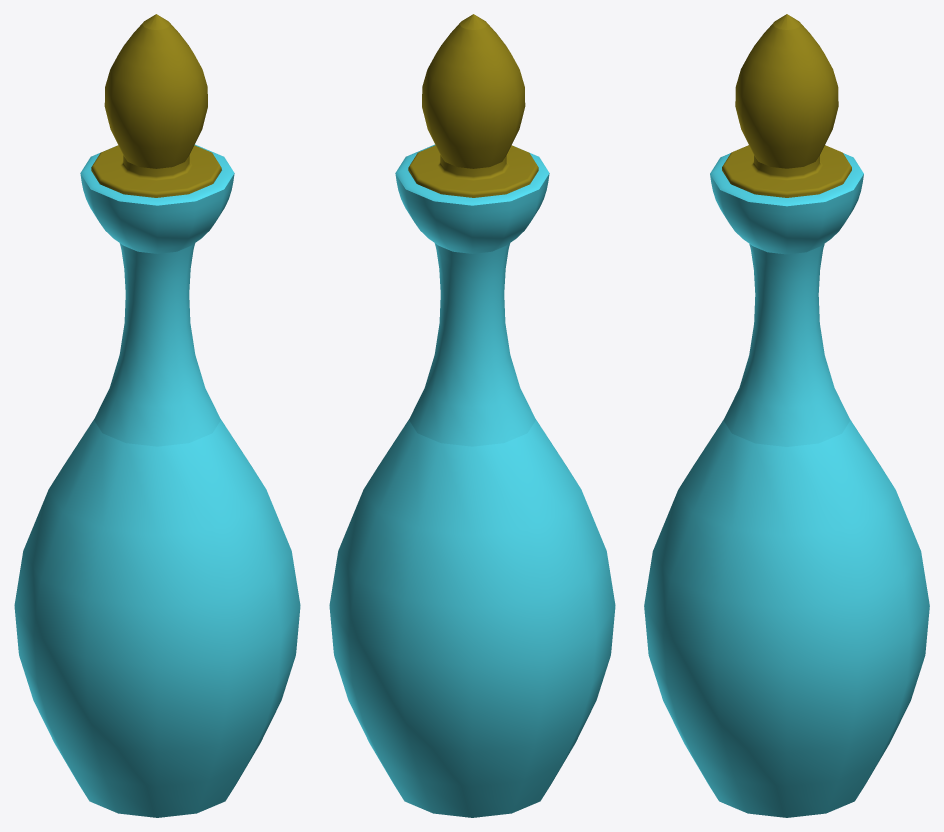
File: potion20.FBX
The picture shows the model from 3 angles, left to right: view 1: azimuth 30°, elevation 25°; view 2: azimuth 150°, elevation 25°; view 3: azimuth 270°, elevation 25°; orthographic projection.
Visible parts, largest first — view 1: potion_20glass; view 2: potion_20glass; view 3: potion_20glass.
Boxes of the visible parts, <box> form: potion_20glass: <box>14,14,300,817</box>; potion_20glass: <box>329,14,615,817</box>; potion_20glass: <box>644,14,929,817</box>.
Bounding box in the file's own units: 17.91 × 53.26 × 17.91.
